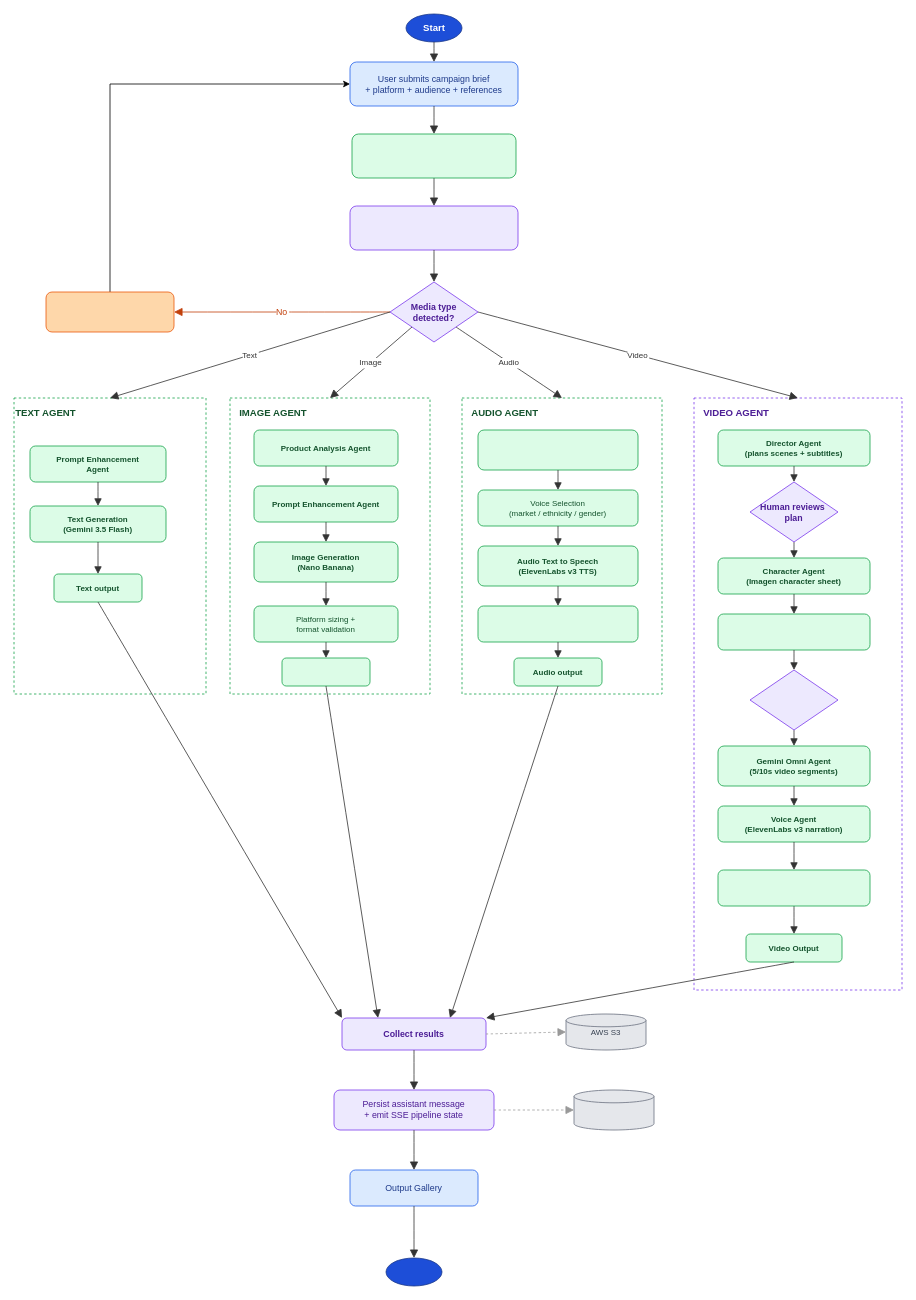
The diagram is 916 pixels wide and 1300 high, and some of its shapes have lost their labels. Each missing label, with the centre of its shape:
"Audio mixing + format output" goes at [557,623].
"CapCut Agent (FFmpeg MP4 + CapCut draft)" goes at [793,887].
"Chat Agent (LangGraph Orchestrator)" goes at [433,155].
"End" goes at [413,1271].
"Human approves visual assets" goes at [793,699].
"Image output" goes at [325,671].
"Load chat history + resolve platform rules + localisation" goes at [433,227].
"Request clarification" goes at [109,311].
"Scene Agent (scene grid + PIL slicing)" goes at [793,631].
"Script Planning Agent (emotion cues: laugh, happy, sad)" goes at [557,449].
"Supabase" goes at [613,1109].
